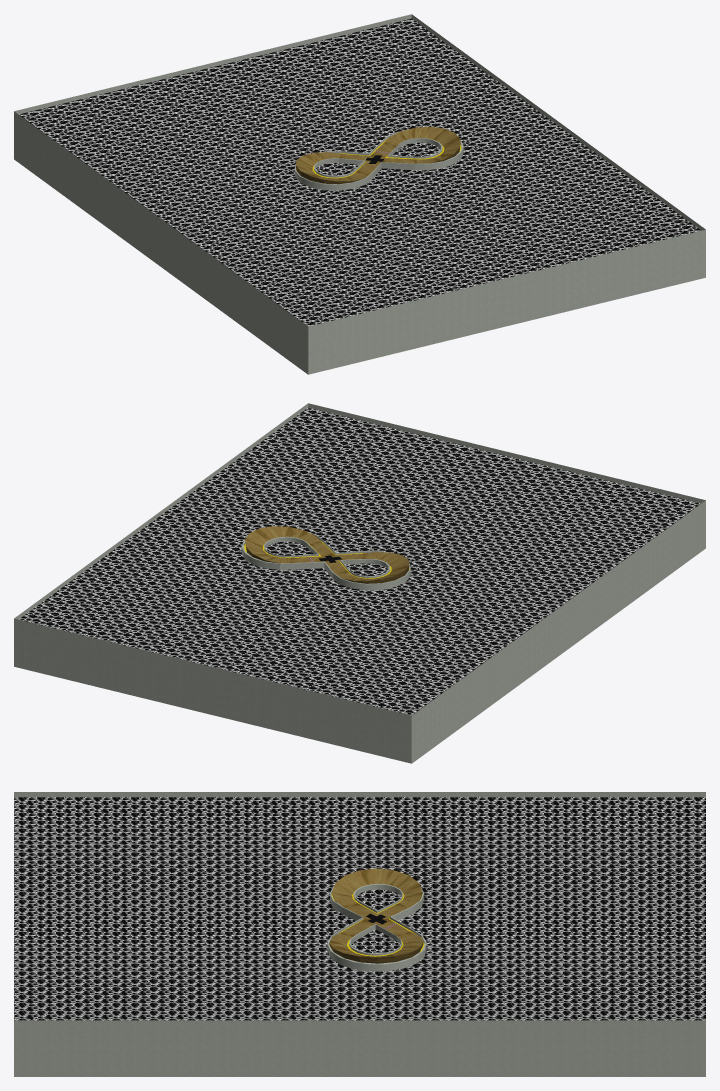
3 views of the same model, one above another, from view 1: azimuth 30°, elevation 25°; view 2: azimuth 150°, elevation 25°; view 3: azimuth 270°, elevation 25° (orthographic). The views are drawn at different scales.
Parts seen in each view (by area): view 1: figure_8_madhouse-SKP--Material6, figure_8_madhouse-SKP--Material7, figure_8_madhouse-SKP--Material; view 2: figure_8_madhouse-SKP--Material6, figure_8_madhouse-SKP--Material7, figure_8_madhouse-SKP--Material; view 3: figure_8_madhouse-SKP--Material6, figure_8_madhouse-SKP--Material7, figure_8_madhouse-SKP--Material, figure_8_madhouse-SKP--Material1.
Boxes of the visible parts, <box> form: figure_8_madhouse-SKP--Material6: <box>19,18,700,326</box>; figure_8_madhouse-SKP--Material7: <box>14,14,705,374</box>; figure_8_madhouse-SKP--Material: <box>296,126,460,181</box>; figure_8_madhouse-SKP--Material6: <box>19,407,700,715</box>; figure_8_madhouse-SKP--Material7: <box>14,403,705,763</box>; figure_8_madhouse-SKP--Material: <box>245,526,409,581</box>; figure_8_madhouse-SKP--Material6: <box>14,797,705,1020</box>; figure_8_madhouse-SKP--Material7: <box>14,792,705,1076</box>; figure_8_madhouse-SKP--Material: <box>329,868,423,957</box>; figure_8_madhouse-SKP--Material1: <box>329,893,423,963</box>.
Size of the model in its own units: 77638 by 10226 by 99456.
Materials: 7 (7 with a texture image).
